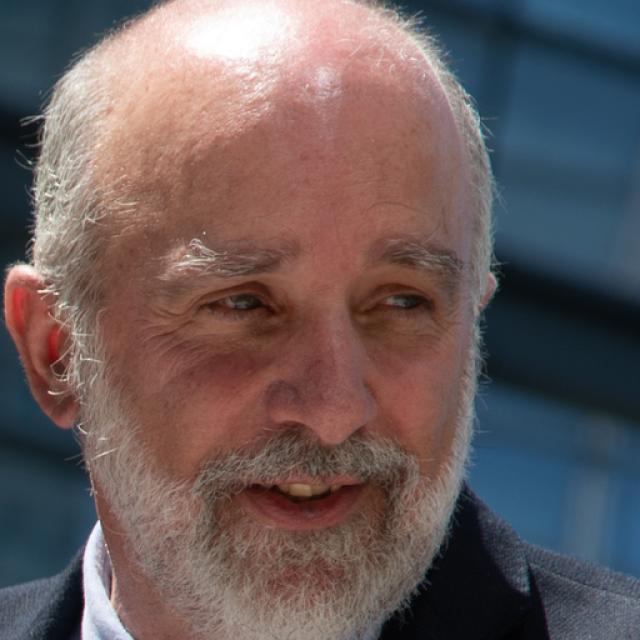Pigmentation: (270, 341, 363, 417), (182, 344, 266, 405)
Wrinkle: (370, 187, 430, 220)
